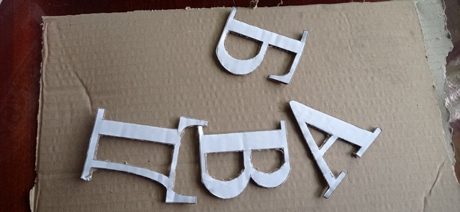a: (288, 100, 382, 200)
b: (215, 8, 308, 84)
d: (80, 107, 209, 205)
v: (196, 119, 291, 200)
